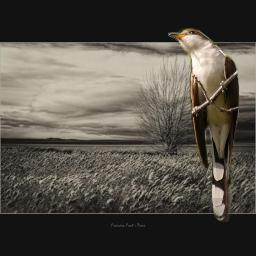Cuckoo: (168, 28, 240, 222)
